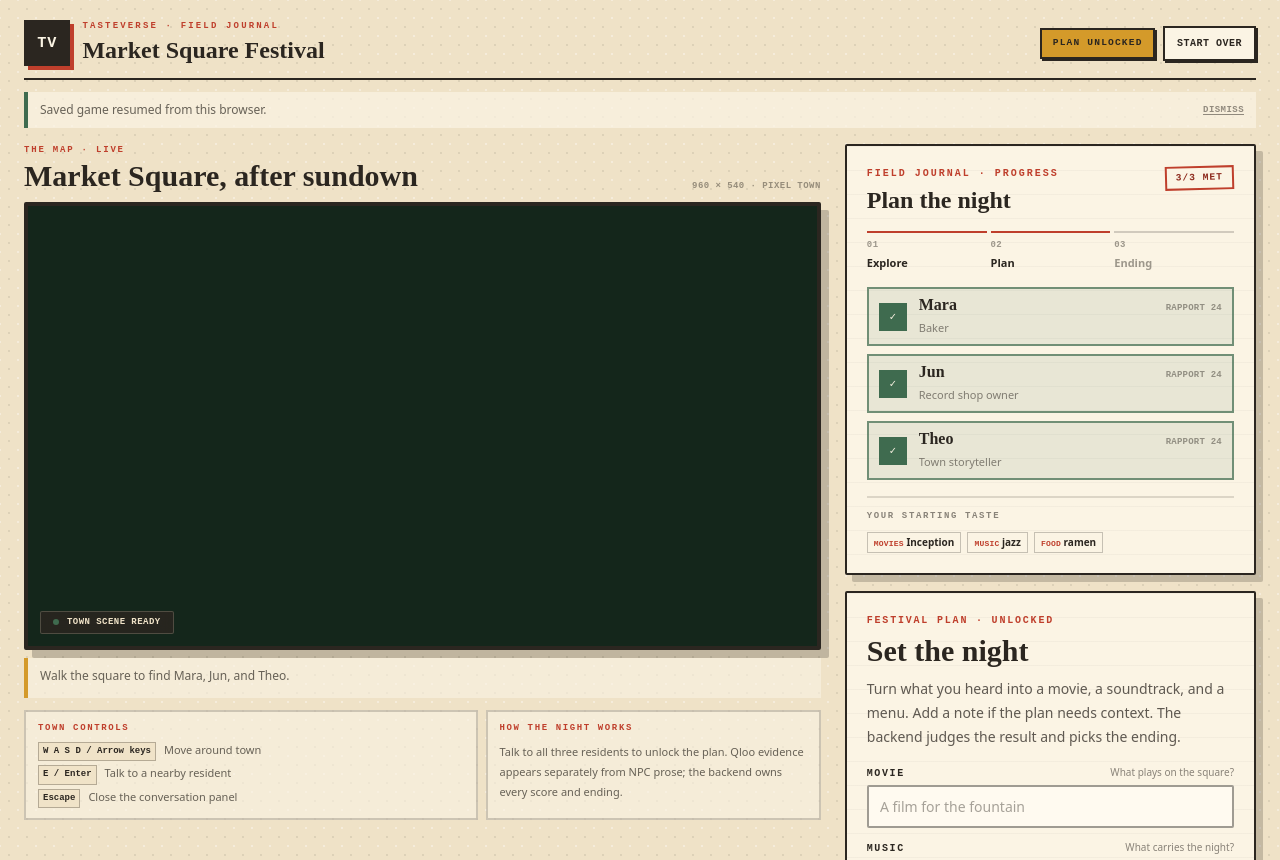
Scenario: plan evaluation and endings › submits the plan and renders the backend Perfect Harmony ending
The width and height of the screenshot is (1280, 860).
Type "Inception" into the field labelled "Movie What plays on the square?".
click(1050, 807); type("Inception")  # box [867,785,1234,828]
(page scrolled)
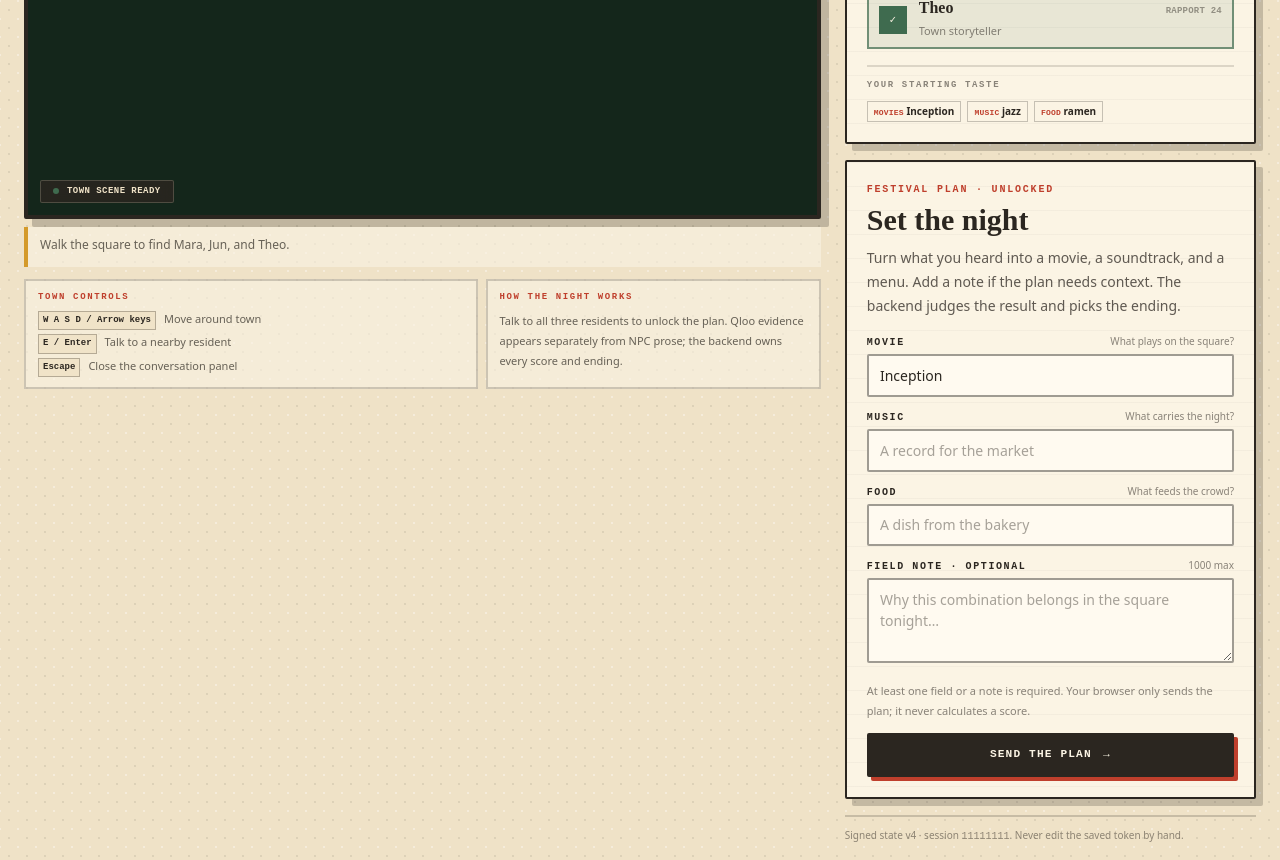
Type "jazz" into the field labelled "Music What carries the night?".
click(1050, 450); type("jazz")  # box [867,429,1234,472]
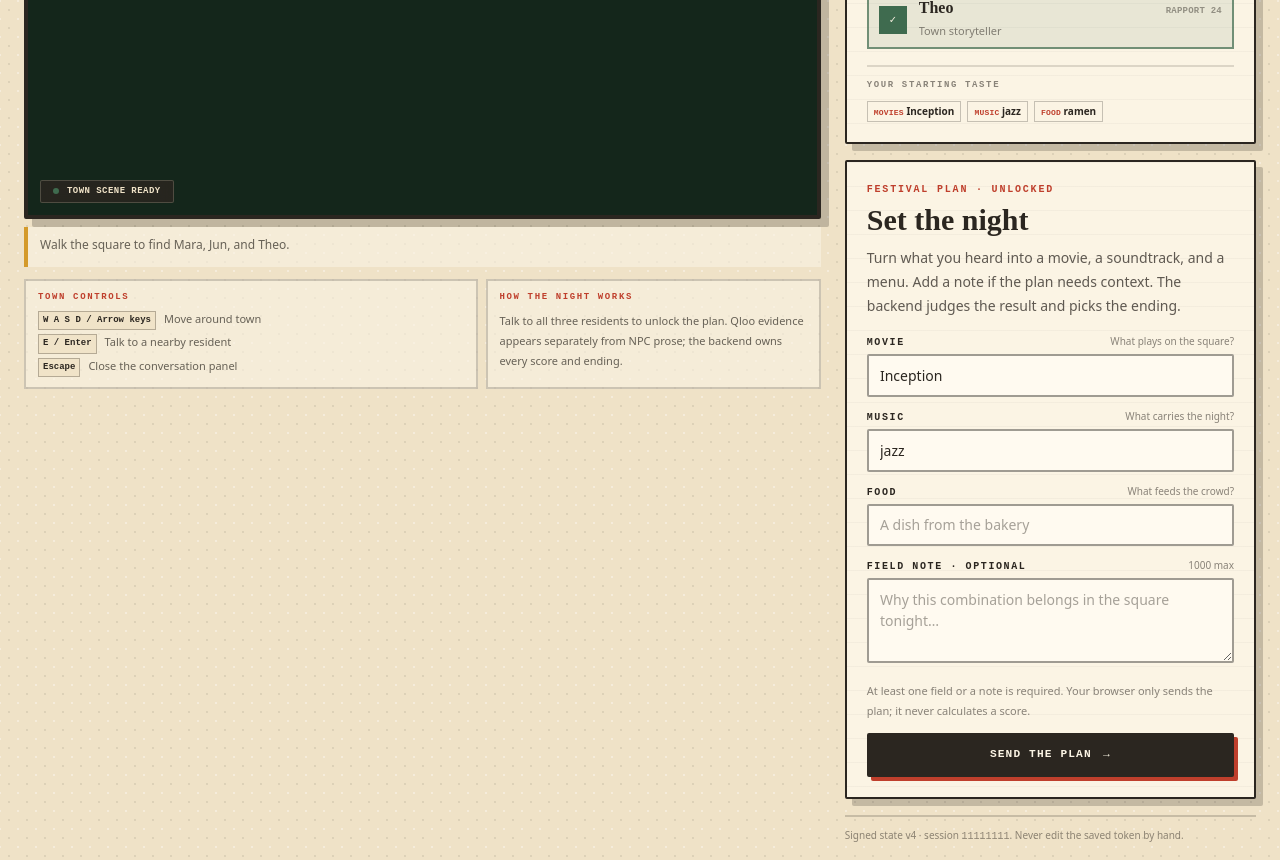
Type "ramen" into the field labelled "Food What feeds the crowd?".
click(1050, 525); type("ramen")  # box [867,504,1234,546]
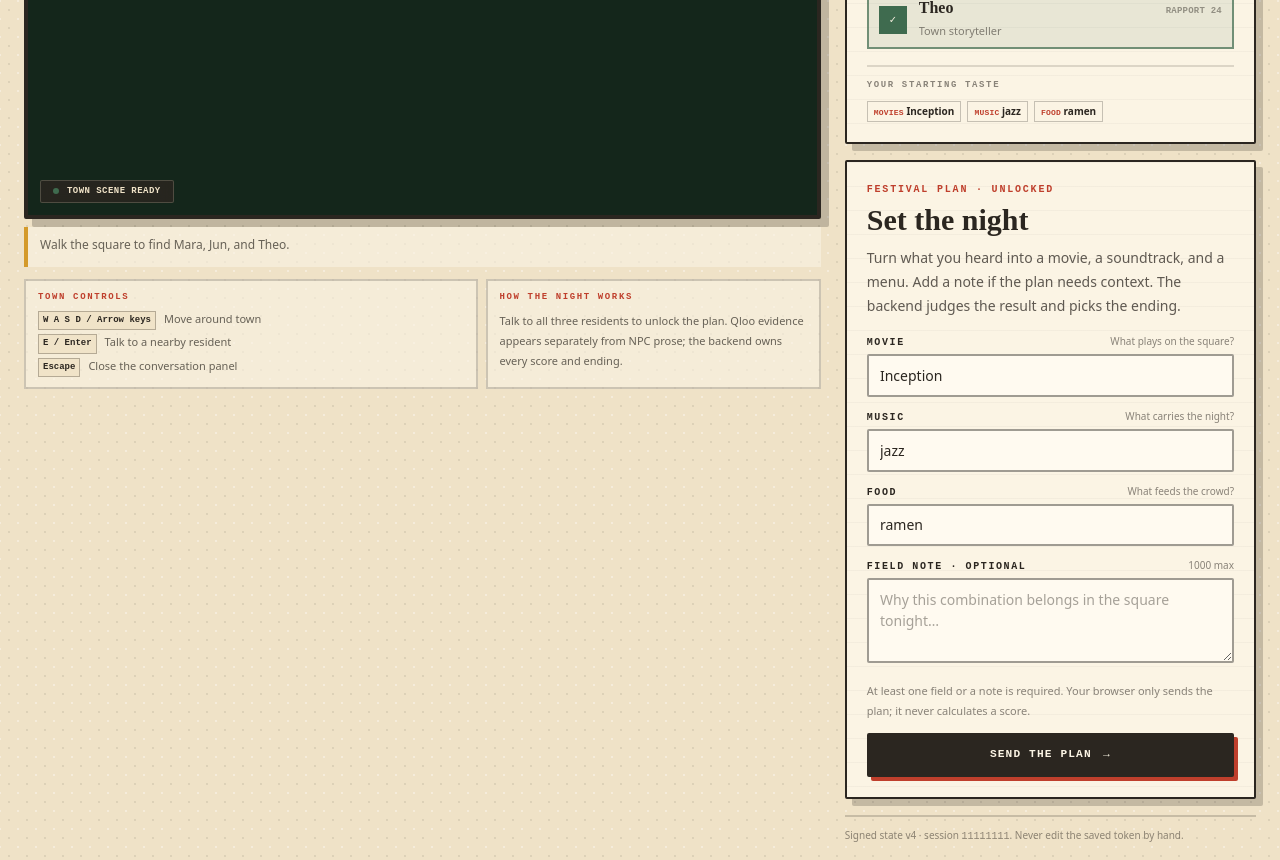
Click the button "Send the plan →".
click(1050, 755)  # box [867,733,1234,777]
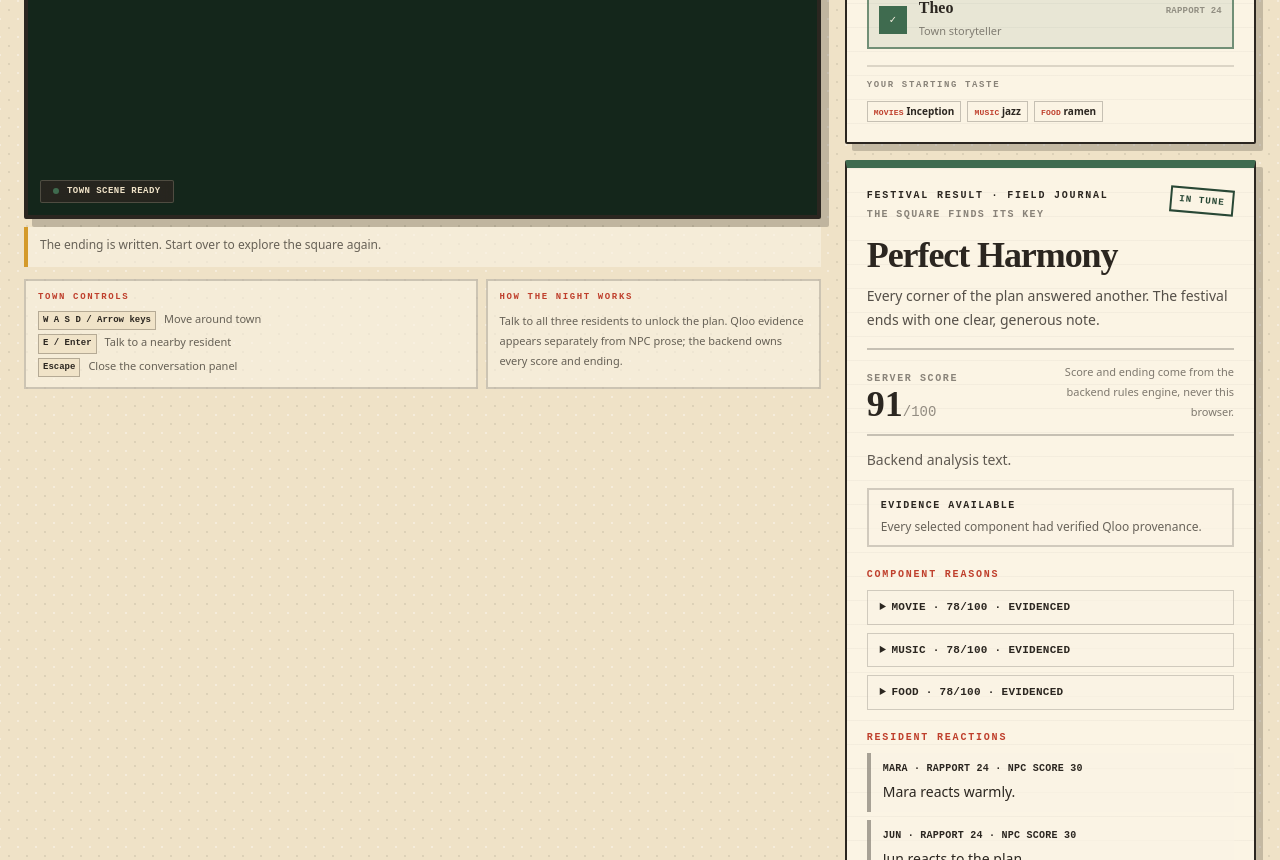
Check: the heading "Perfect Harmony" is shown, box [867,235,1118,275]
Check: the text "Evidence available" is shown, box [881,500,1016,511]
Check: the text "Backend analysis text." is shown, box [867,450,1011,469]
